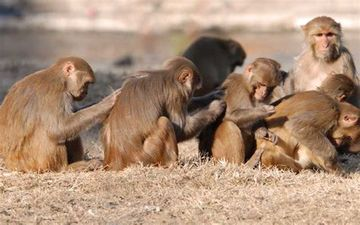monkey: (102, 22, 212, 186), (17, 35, 91, 187), (216, 36, 283, 190), (289, 69, 358, 182)
